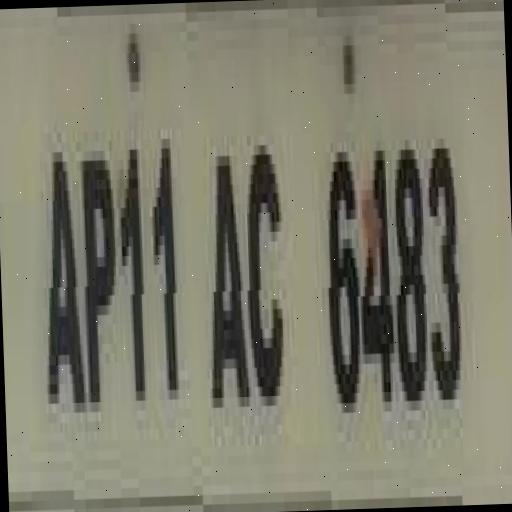number plate: (0, 1, 497, 512)
